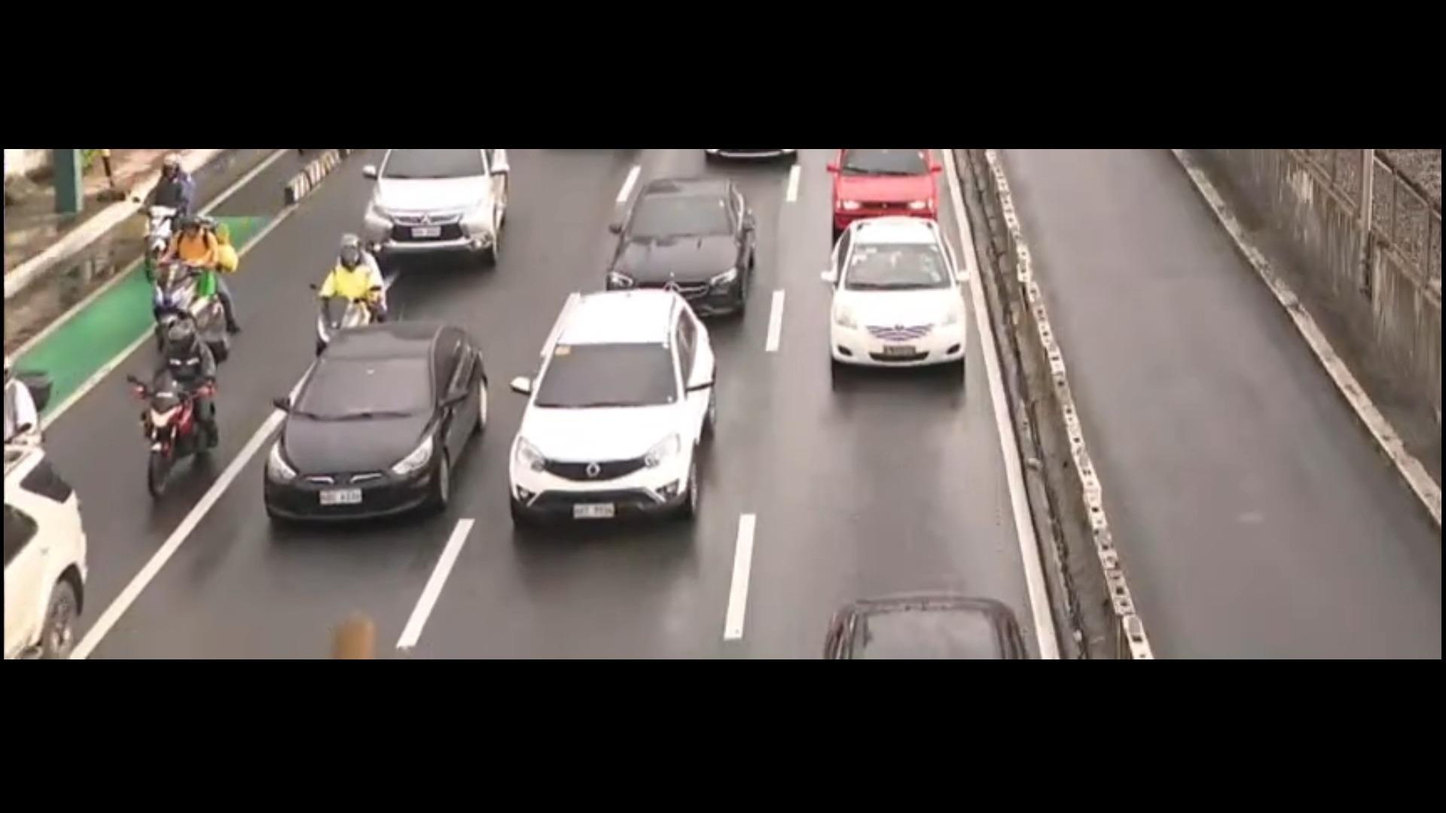Motorcycle: (132, 303, 221, 541), (140, 213, 245, 340), (117, 147, 224, 261), (307, 226, 386, 345), (0, 343, 66, 480)
SUV: (498, 285, 737, 553), (361, 136, 524, 276)
Sedan: (247, 303, 496, 529), (805, 211, 987, 398), (597, 174, 767, 322), (820, 134, 954, 240)
